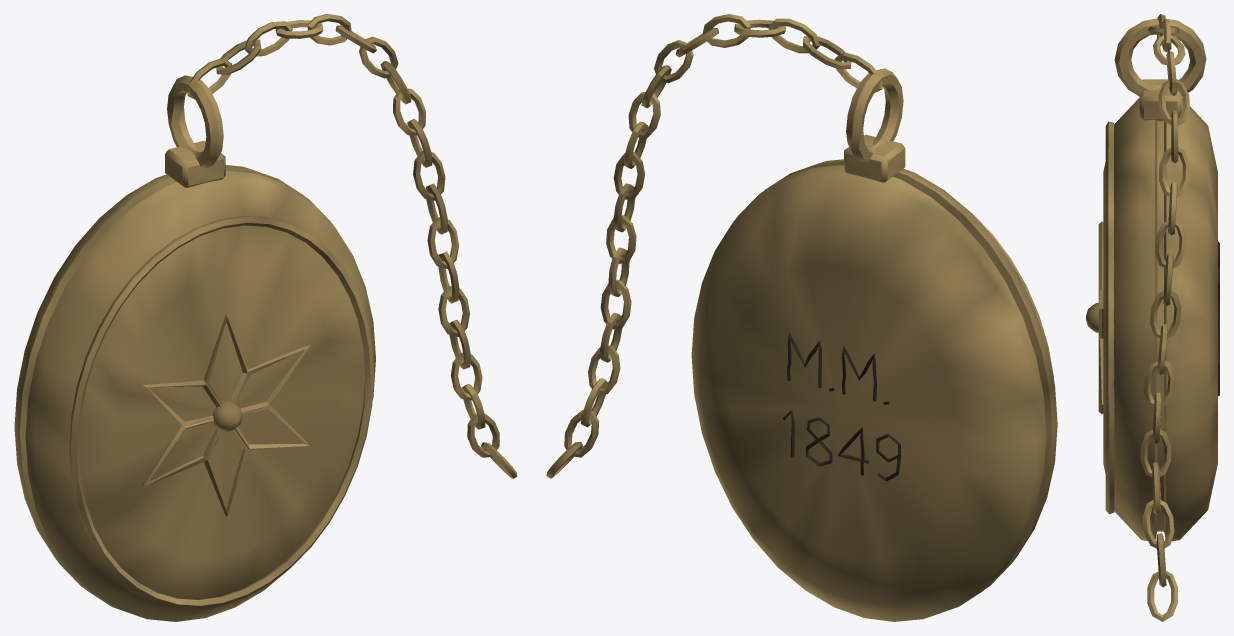
The model's file is childs-locket.glb.
3 renders of one model, left to right at view 1: azimuth 30°, elevation 25°; view 2: azimuth 150°, elevation 25°; view 3: azimuth 270°, elevation 25°, orthographic. The views are drawn at different scales.
Parts seen in each view (by area): view 1: childs-locket; view 2: childs-locket; view 3: childs-locket.
Boxes of the visible parts, box(x1,y1,x2,y2) form: childs-locket: box(14, 14, 517, 621); childs-locket: box(546, 14, 1057, 621); childs-locket: box(1086, 14, 1219, 621).
Bounding box in the file's own units: 0.039 × 0.0429 × 0.0096.
